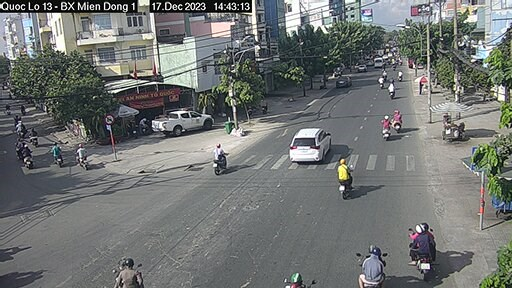car: (290, 122, 334, 163), (148, 108, 219, 131)
motorbike: (348, 247, 385, 288), (404, 224, 433, 274), (205, 143, 233, 174), (327, 160, 355, 189)
